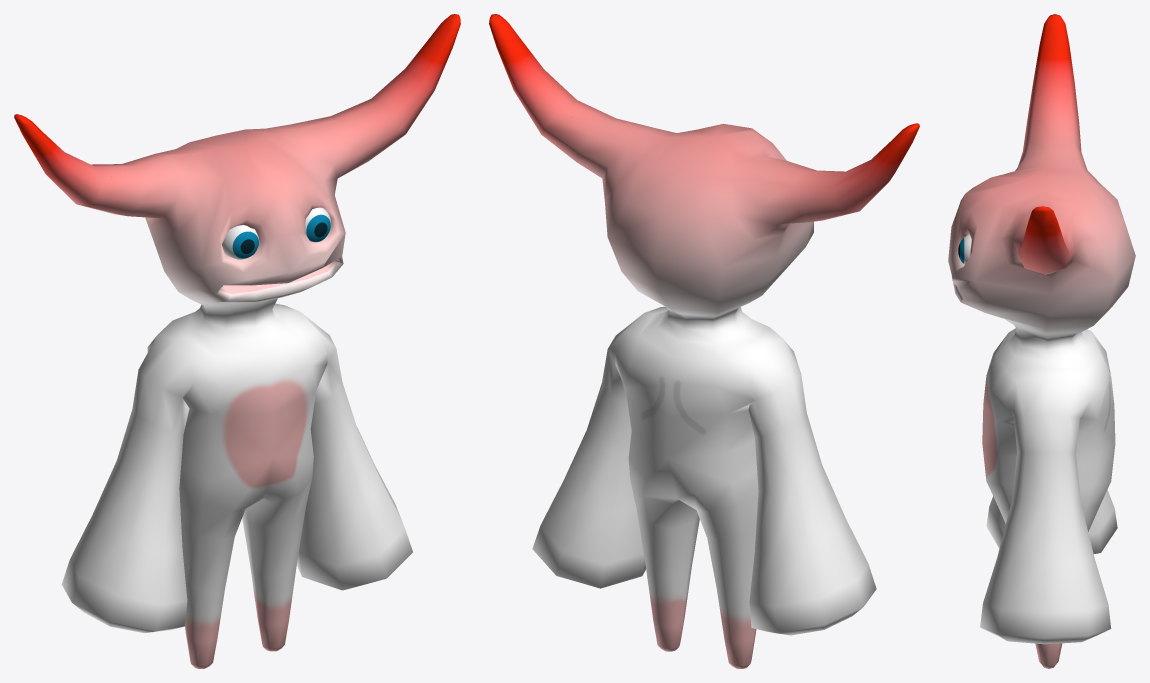
The model's file is frame38.obj.
3 views of the same model, side by side, from view 1: azimuth 30°, elevation 25°; view 2: azimuth 150°, elevation 25°; view 3: azimuth 270°, elevation 25° (orthographic). The views are drawn at different scales.
Visible parts, largest first — view 1: Body, Right_Eye, Left_Eye; view 2: Body; view 3: Body, Left_Eye.
Boxes of the visible parts, x1,y1,x2,y2 form: Body: [14, 14, 460, 668]; Right_Eye: [222, 225, 259, 259]; Left_Eye: [305, 207, 331, 242]; Body: [489, 14, 919, 668]; Body: [948, 14, 1135, 668]; Left_Eye: [958, 234, 971, 264].
Size of the model in its own units: 13.9 by 18.07 by 5.69.
